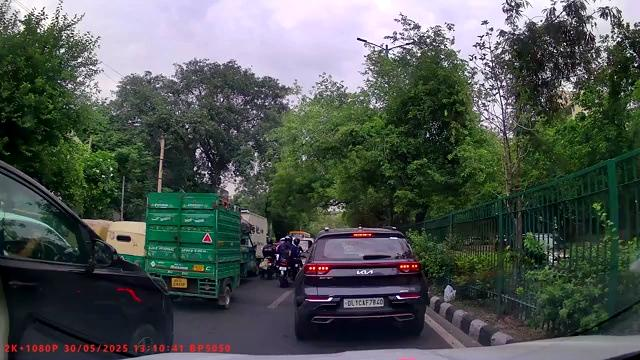motorcycle_with_helmet: (274, 234, 302, 287)
